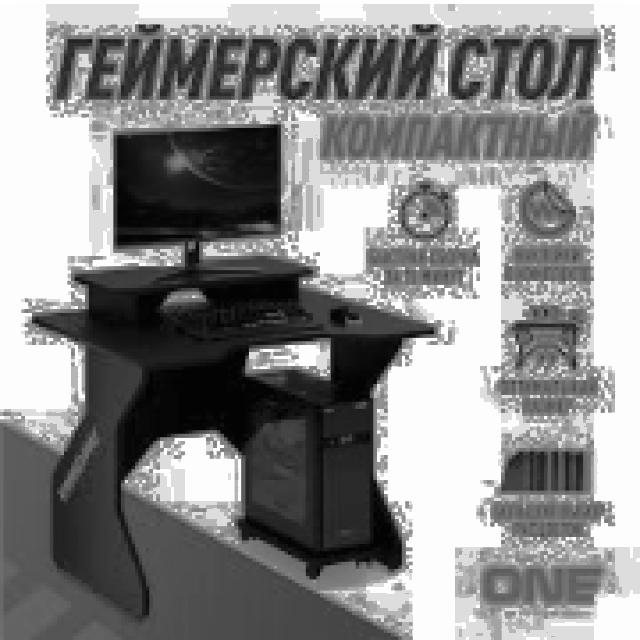table: (28, 266, 434, 618)
